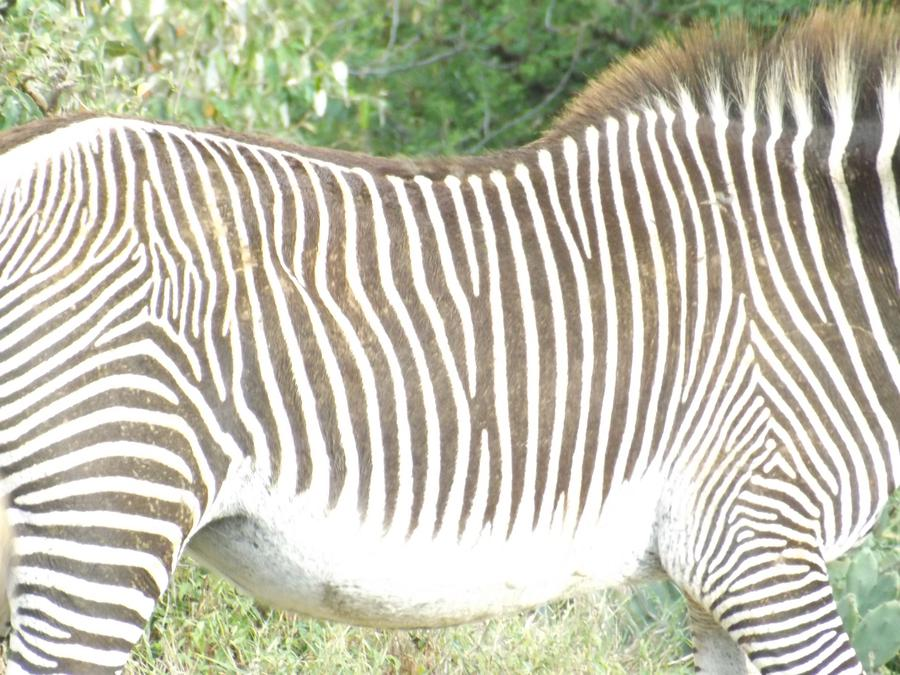zebra_grevys: (2, 71, 841, 564)
